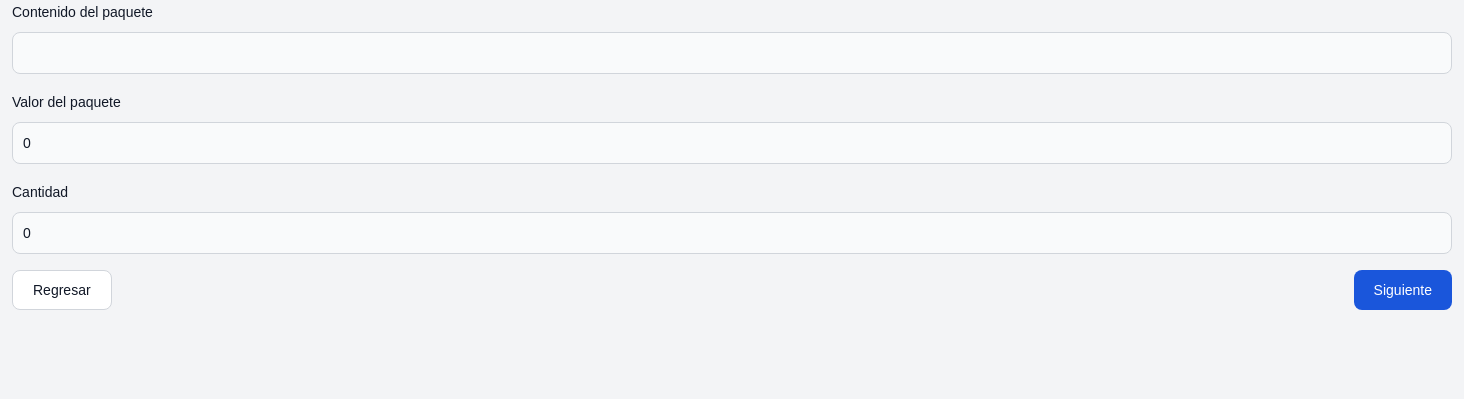
Scenario: ParcelInfoForm › Form validation errors › should display validation error when content field has less than 2 characters
Note: When user enters only 1 character in content field and submits
Step 1. Type "a" into the field with test id "content" → (732, 53), box [12,32,1452,74]
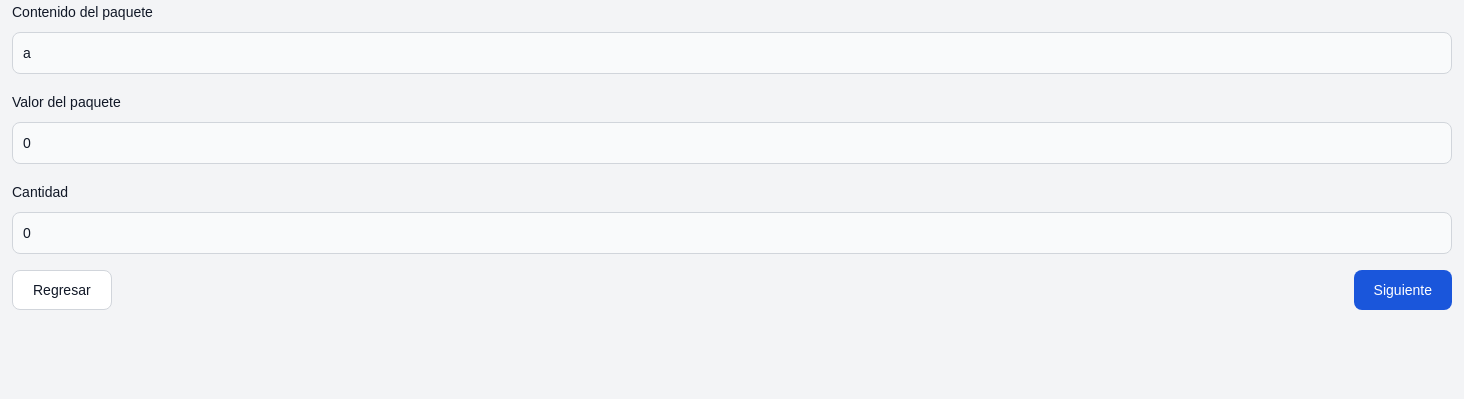
Step 2. Click the button with test id "parcel-info-form-next-button" → (1403, 290), box [1354,270,1452,310]
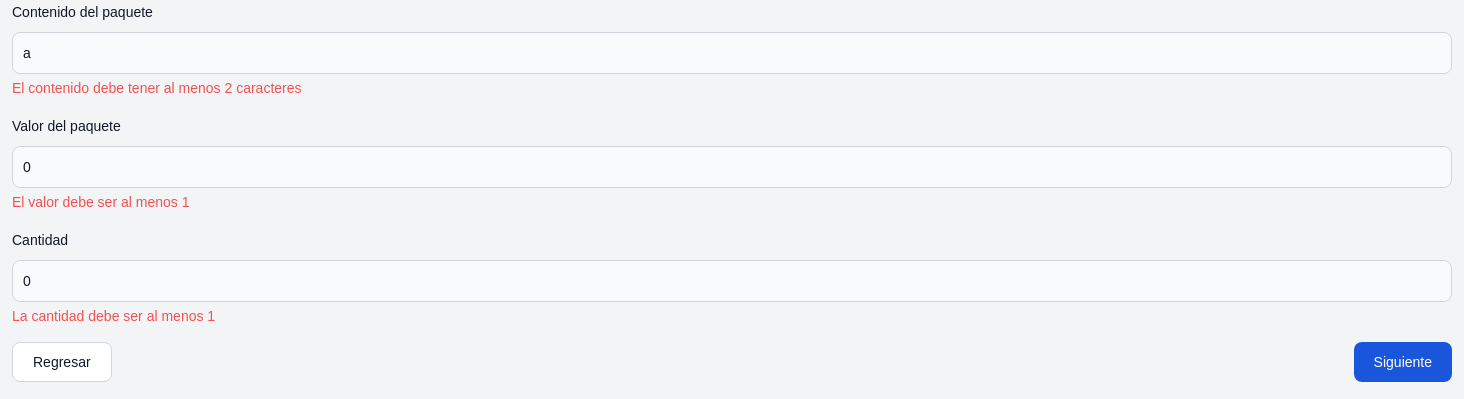
Result: the text "El contenido debe tener al menos 2 caracteres" is shown at [12,80,302,96]
